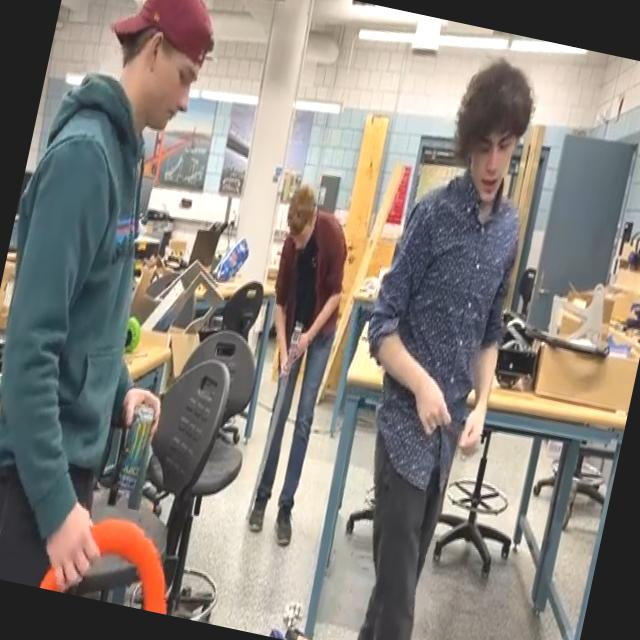note: (38, 500, 186, 613)
